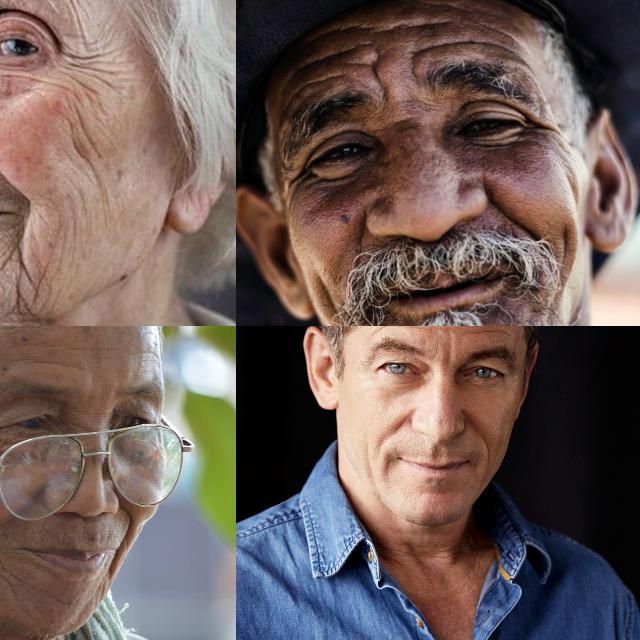chin: (8, 234, 46, 312), (4, 574, 26, 610)
crows_feet: (52, 40, 110, 81), (516, 112, 558, 144), (282, 160, 320, 193)
forehead: (387, 16, 455, 36), (316, 40, 368, 62), (28, 354, 78, 374), (297, 72, 351, 90), (458, 326, 512, 342), (426, 34, 479, 50), (381, 326, 435, 336)
frown_line: (370, 60, 392, 100), (404, 46, 422, 78)
gummy_smile: (491, 193, 543, 235), (377, 408, 415, 446), (467, 412, 499, 452), (117, 502, 137, 552), (0, 124, 11, 186), (353, 218, 369, 256)
masseter: (60, 108, 106, 186), (318, 276, 340, 320), (555, 218, 575, 260), (362, 449, 381, 487)
